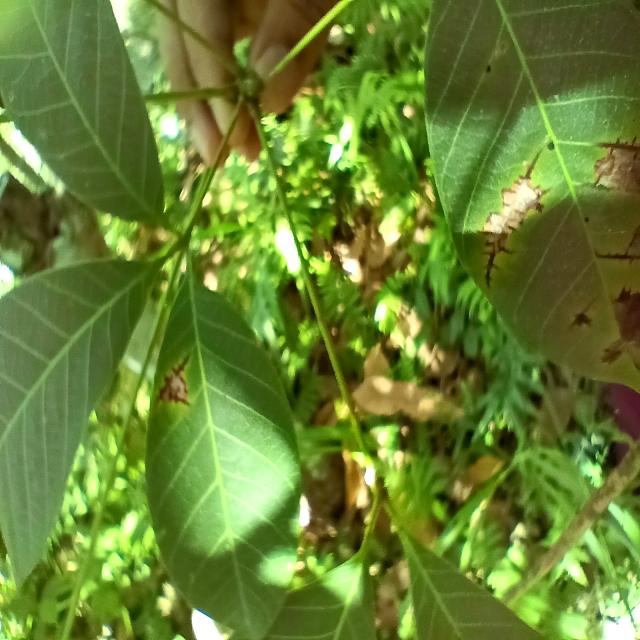Colletotrichum: (548, 141, 554, 150)
Corynespora: (479, 144, 552, 288), (155, 353, 192, 408), (595, 226, 640, 264), (597, 136, 640, 160), (569, 300, 594, 332)
Leaf-Blight: (601, 286, 640, 370), (594, 150, 640, 192)
